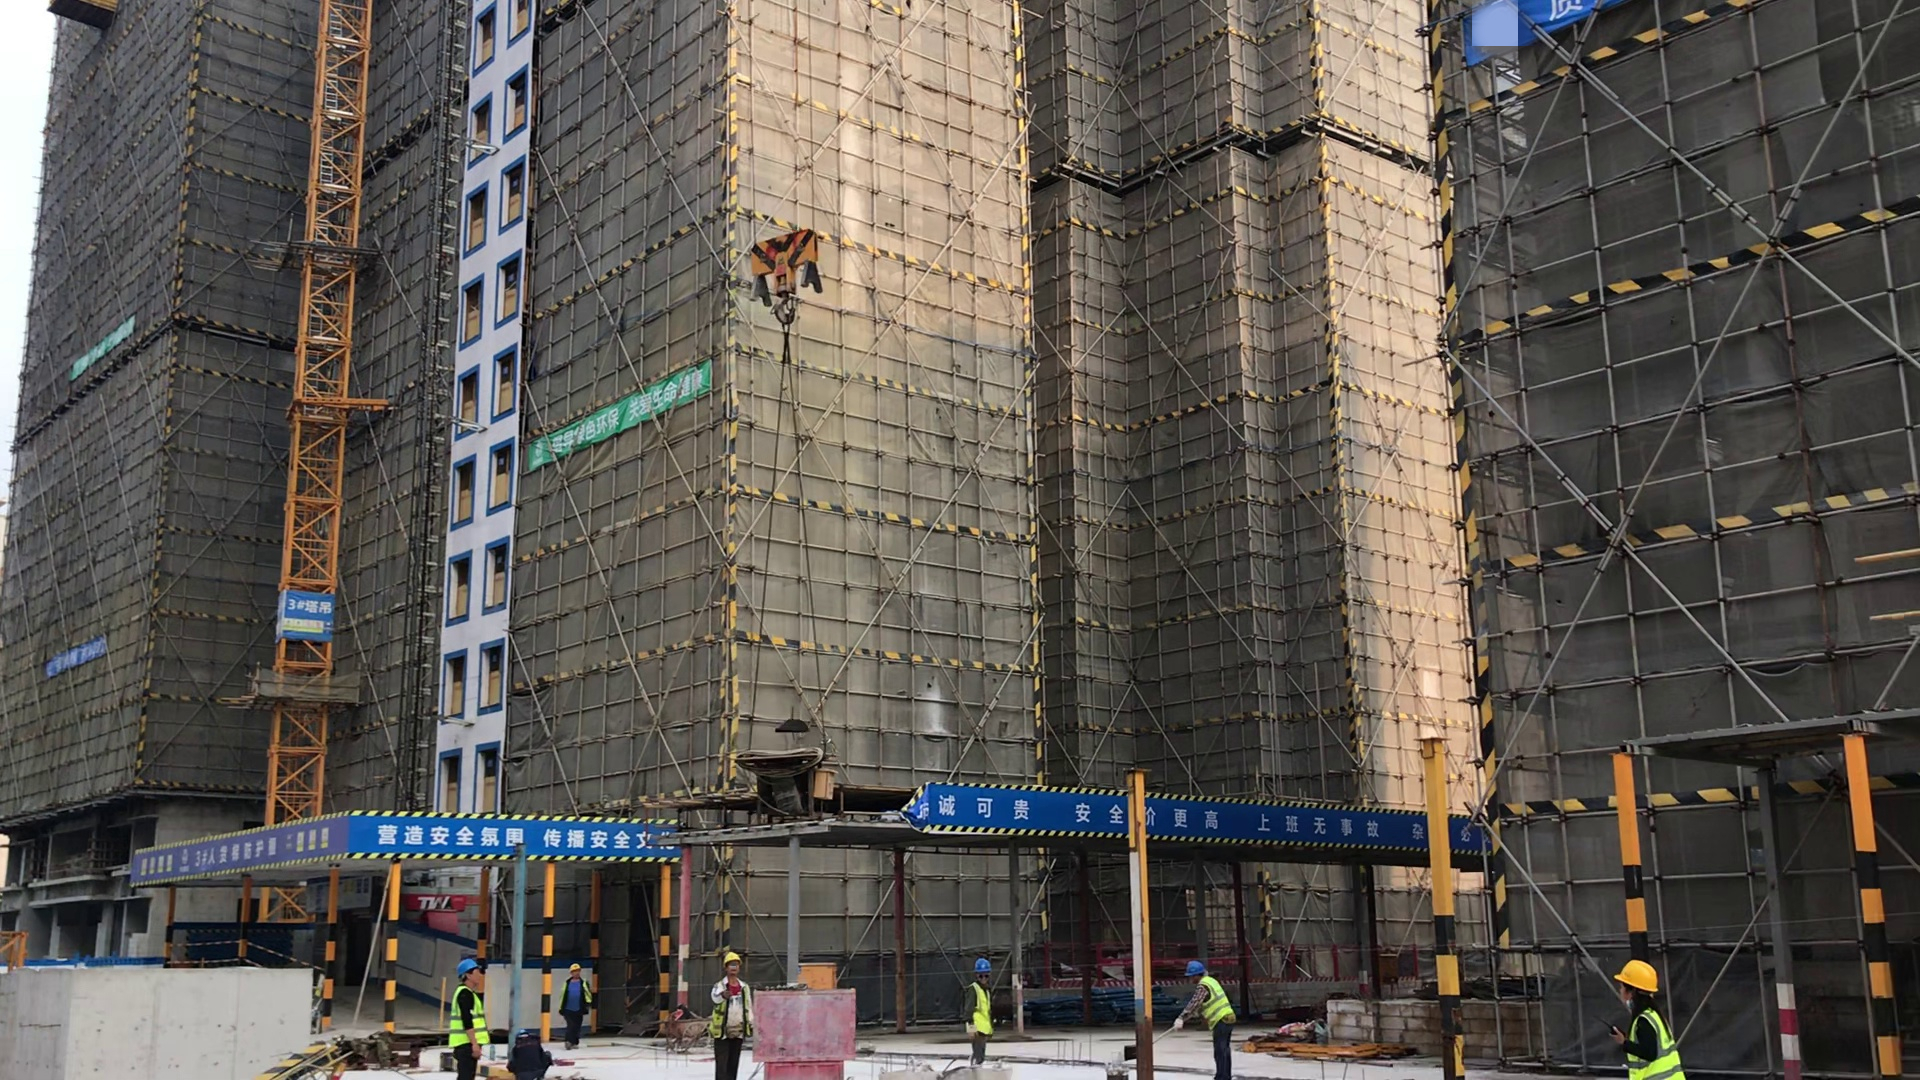ebox: (798, 960, 843, 989)
fence: (1044, 932, 1423, 992)
handcart: (644, 1017, 710, 1054)
helmet: (1610, 954, 1658, 995), (455, 959, 483, 979), (720, 950, 745, 968), (1182, 961, 1209, 977), (972, 958, 995, 975), (566, 961, 585, 974)
hook: (744, 212, 827, 334)
person: (1596, 954, 1715, 1080), (1151, 958, 1251, 1080), (699, 948, 760, 1080), (440, 962, 503, 1080), (951, 952, 1004, 1067), (552, 960, 605, 1054)
slogan: (923, 770, 1483, 857), (530, 359, 715, 470), (130, 812, 359, 890), (349, 812, 676, 861), (67, 316, 129, 376), (45, 637, 109, 678)
vest: (1620, 1014, 1693, 1080), (715, 980, 754, 1039), (448, 991, 489, 1045), (1189, 982, 1238, 1025), (966, 982, 997, 1037), (557, 978, 595, 1010)
